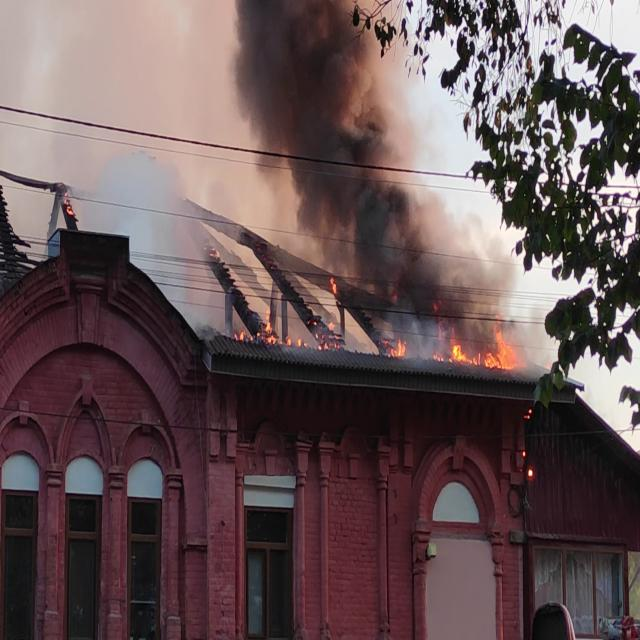fire: (421, 293, 523, 374)
smoke: (239, 0, 403, 225)
